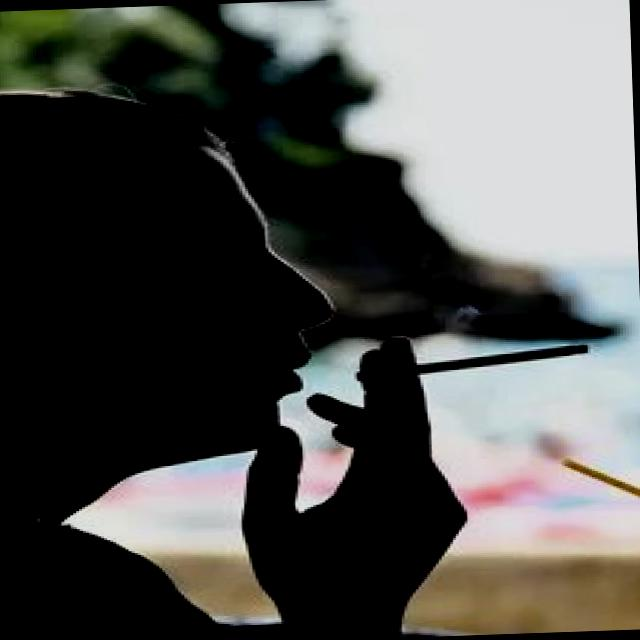cigarette: (407, 340, 603, 379)
